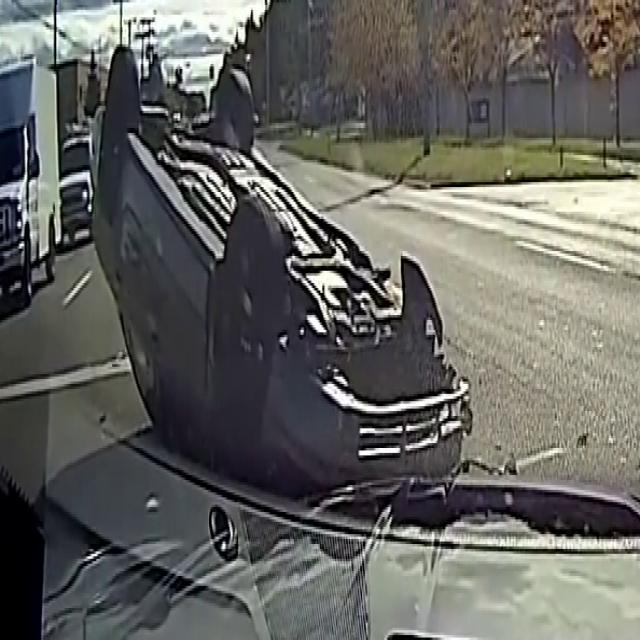accident: (80, 55, 462, 491)
